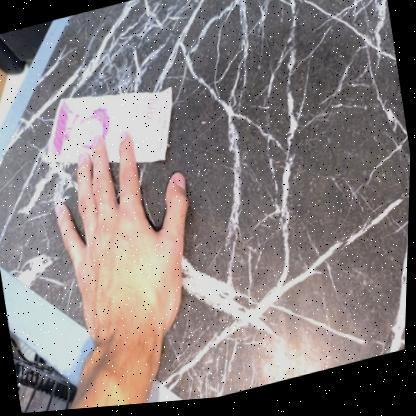one_hundred-front-vef: (37, 72, 185, 192)
